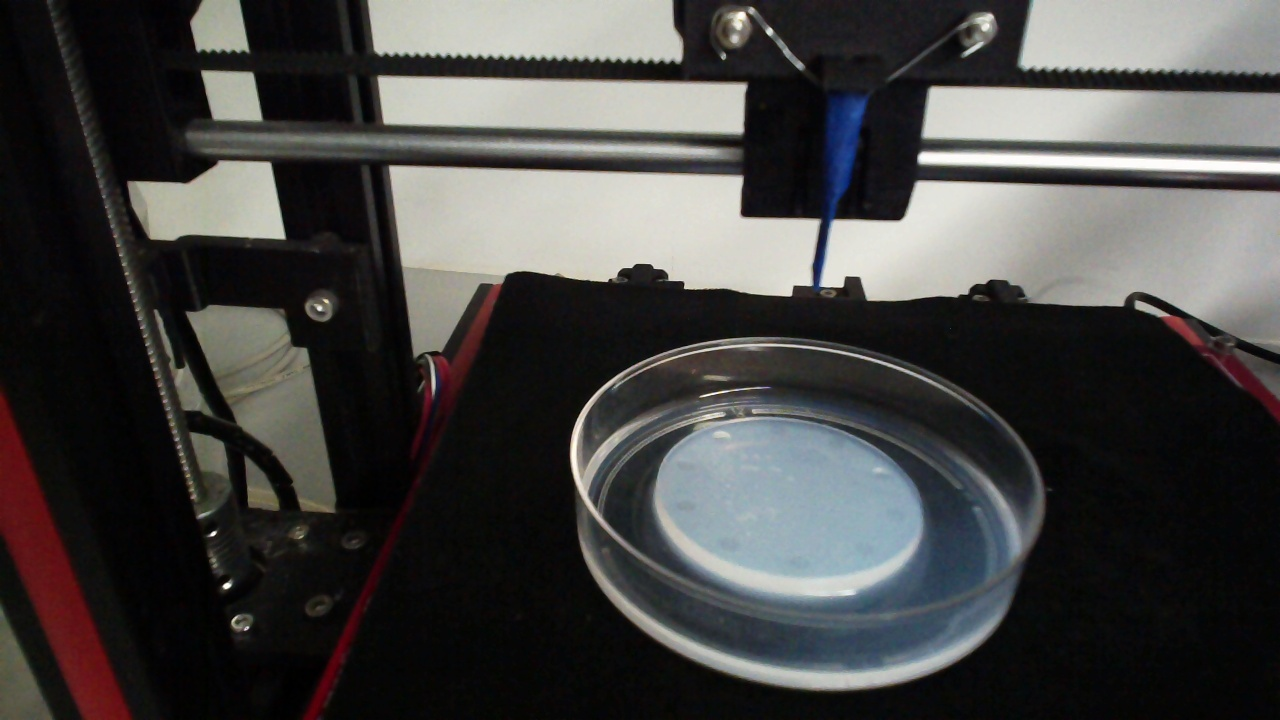groove: (851, 538, 872, 557), (787, 553, 810, 570), (884, 505, 905, 523), (717, 536, 740, 552), (871, 467, 894, 483), (825, 434, 844, 452), (674, 457, 698, 471), (710, 429, 731, 444), (674, 499, 696, 513), (768, 422, 787, 436)
needle: (811, 95, 866, 295)
